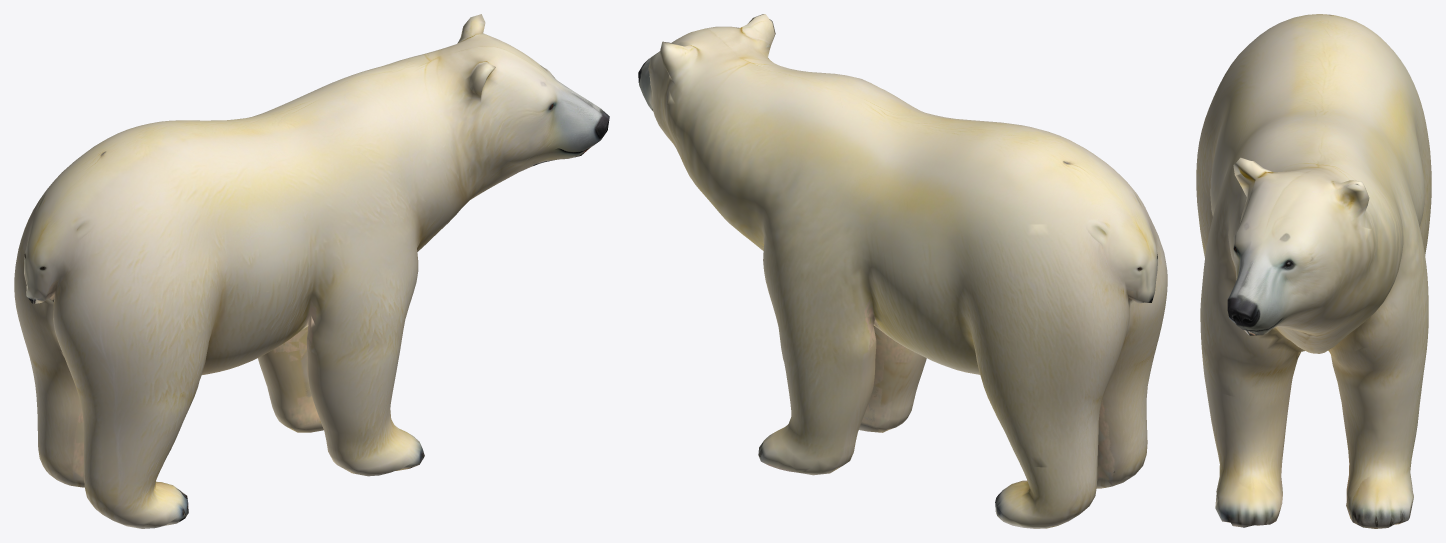
Rendered from Majestic_Arctic_polabear.glb.
3 renders of one model, left to right at view 1: azimuth 30°, elevation 25°; view 2: azimuth 150°, elevation 25°; view 3: azimuth 270°, elevation 25°, orthographic. The views are drawn at different scales.
Visible parts, largest first — view 1: Mesh_0; view 2: Mesh_0; view 3: Mesh_0.
Boxes of the visible parts, bbox=[...] form: Mesh_0: bbox=[14, 14, 609, 528]; Mesh_0: bbox=[638, 14, 1167, 528]; Mesh_0: bbox=[1196, 14, 1431, 528].
Bounding box in the file's own units: 2.72 × 1.8 × 0.9426.
1 material, 1 textured.
